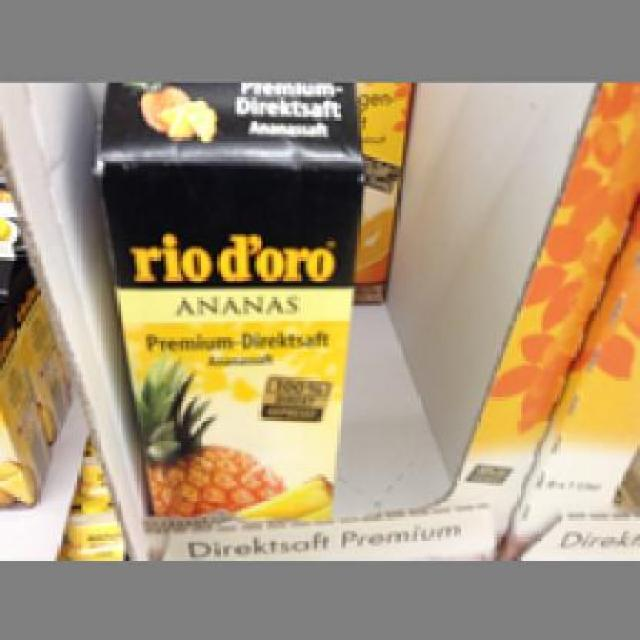Juice: (94, 79, 363, 515)
